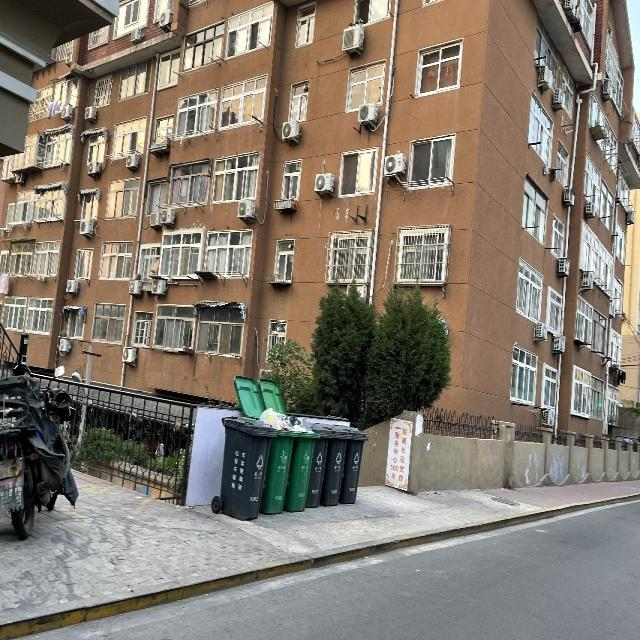garbage_bin: (218, 415, 276, 518), (320, 423, 350, 505), (304, 422, 332, 507), (338, 425, 368, 504)
overflow: (259, 407, 299, 514), (284, 416, 320, 511)
